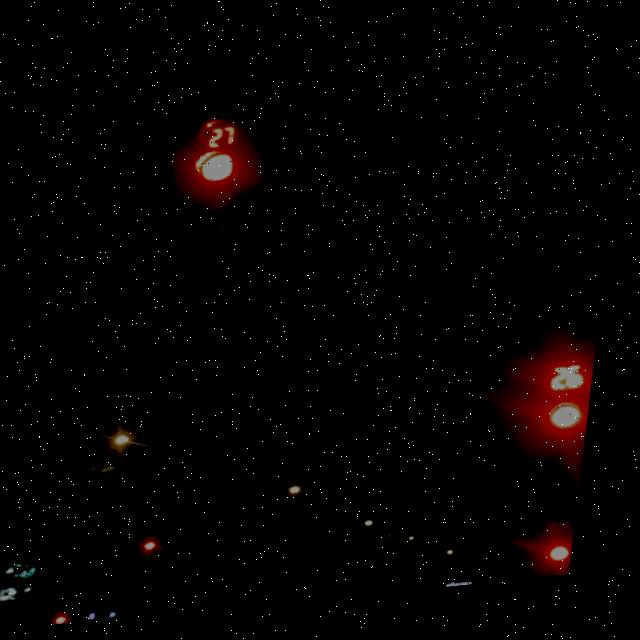Red: (182, 150, 258, 267), (541, 409, 599, 505), (557, 553, 586, 590)
